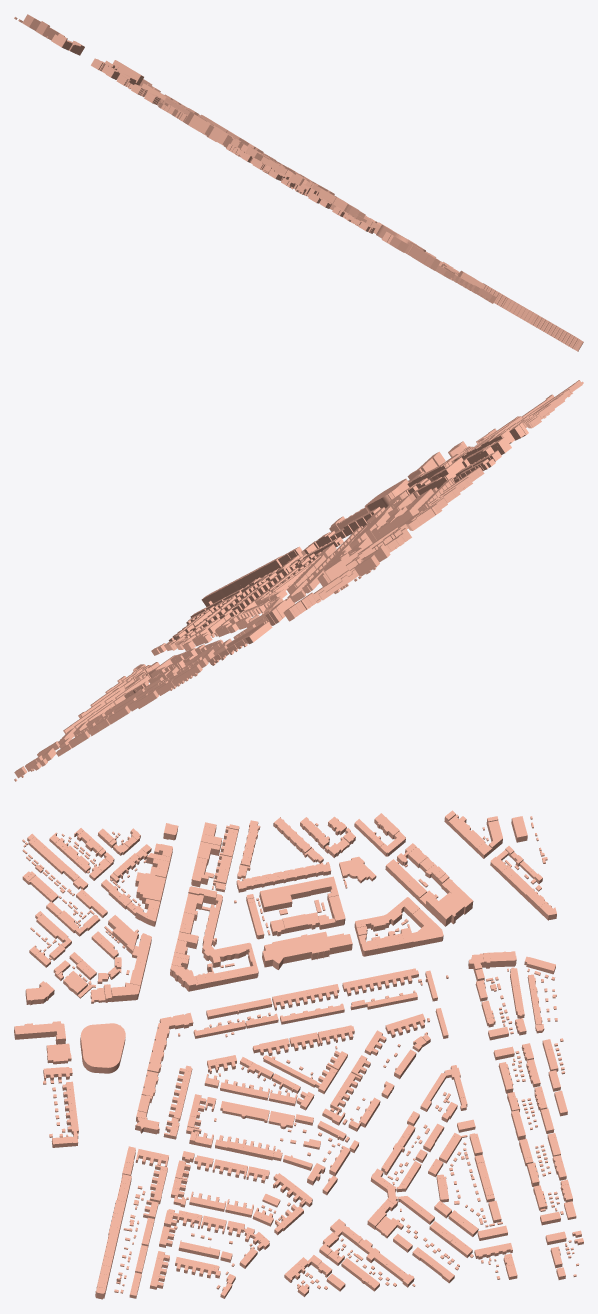
3 views of the same model, one above another, from view 1: azimuth 30°, elevation 25°; view 2: azimuth 150°, elevation 25°; view 3: azimuth 270°, elevation 25° (orthographic). The views are drawn at different scales.
Bounding box in the file's own units: 522 × 388 × 654.
